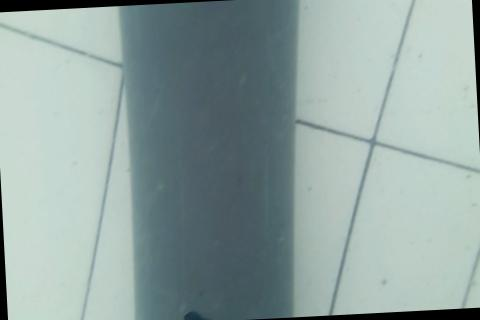kebocoran: (181, 306, 234, 320)
